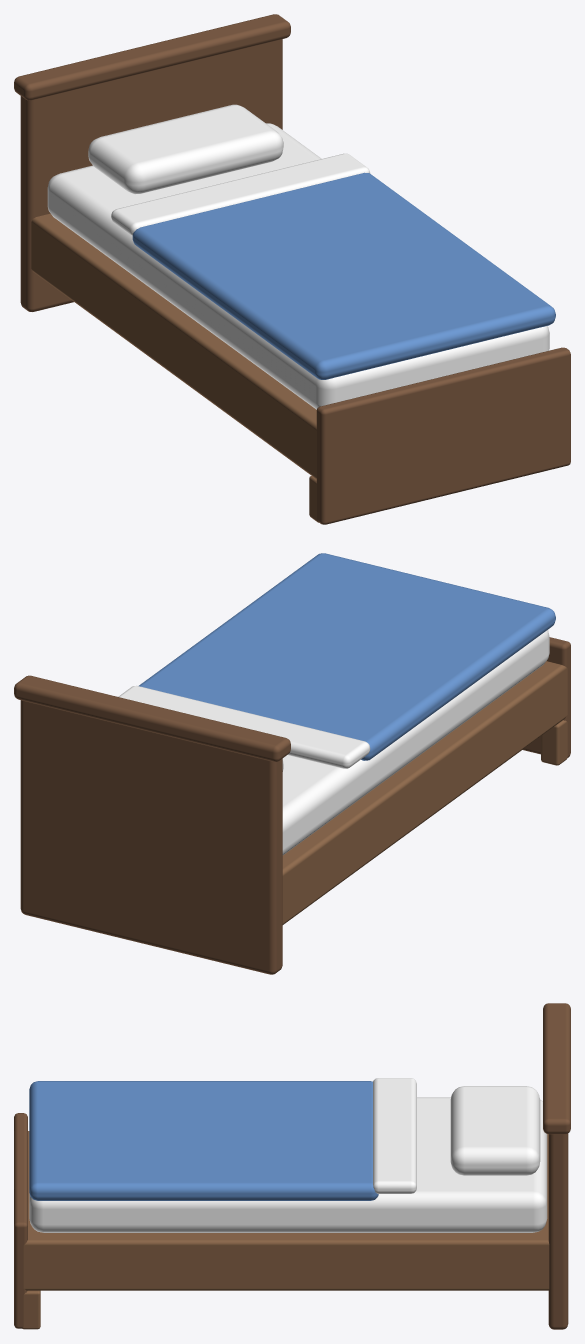
File: bed_single.glb
The picture shows the model from 3 angles, top to bottom: view 1: azimuth 30°, elevation 25°; view 2: azimuth 150°, elevation 25°; view 3: azimuth 270°, elevation 25°; orthographic projection. The views are drawn at different scales.
Parts seen in each view (by area): view 1: Cube.007, Cube.005, Cube.003, Cube, Cube.006, Cube.009, Cube.004, Cube.008; view 2: Cube.003, Cube.007, Cube, Cube.006, Cube.004, Cube.008, Cube.005, Cube.001; view 3: Cube.007, Cube, Cube.006, Cube.009, Cube.008, Cube.003, Cube.004, Cube.005, Cube.002.
Part boxes in pixels (left/top/right/bottom): Cube.007: left=132, top=172, right=555, bottom=379; Cube.005: left=316, top=347, right=570, bottom=524; Cube.003: left=20, top=39, right=282, bottom=311; Cube: left=31, top=213, right=316, bottom=478; Cube.006: left=47, top=123, right=549, bottom=409; Cube.009: left=88, top=104, right=283, bottom=194; Cube.004: left=14, top=14, right=290, bottom=100; Cube.008: left=111, top=153, right=370, bottom=235; Cube.003: left=20, top=700, right=282, bottom=974; Cube.007: left=139, top=553, right=555, bottom=760; Cube: left=282, top=661, right=567, bottom=924; Cube.006: left=282, top=630, right=549, bottom=855; Cube.004: left=14, top=675, right=290, bottom=761; Cube.008: left=118, top=685, right=370, bottom=768; Cube.005: left=522, top=637, right=570, bottom=757; Cube.001: left=541, top=720, right=567, bottom=765; Cube.007: left=29, top=1081, right=378, bottom=1200; Cube: left=23, top=1131, right=549, bottom=1290; Cube.006: left=29, top=1097, right=547, bottom=1232; Cube.009: left=450, top=1086, right=540, bottom=1175; Cube.008: left=373, top=1078, right=416, bottom=1193; Cube.003: left=548, top=1133, right=568, bottom=1329; Cube.004: left=543, top=1003, right=570, bottom=1134; Cube.005: left=14, top=1113, right=27, bottom=1328; Cube.002: left=22, top=1290, right=40, bottom=1329.
Bounding box in the file's own units: 1.01 × 0.84 × 1.99.
